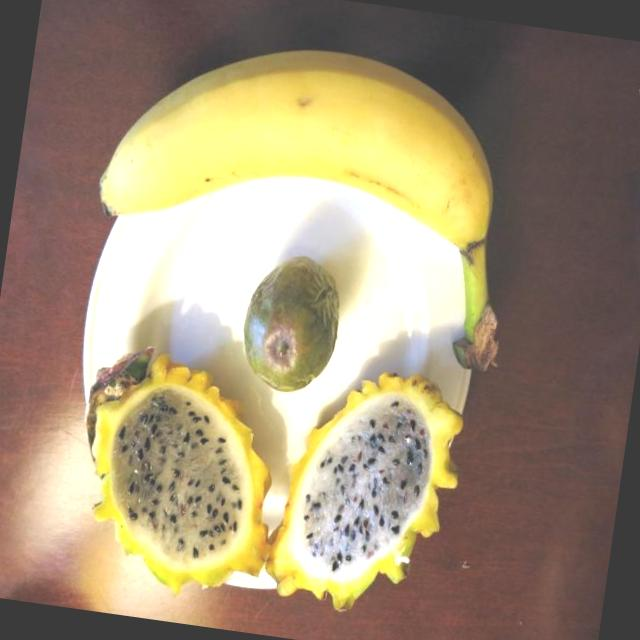Banana: (77, 23, 536, 373)
